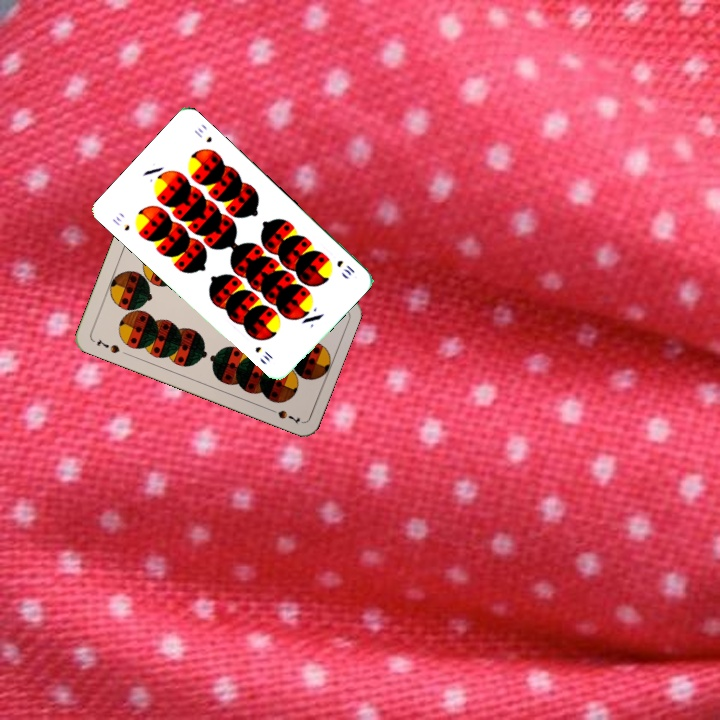S10: (333, 256, 357, 278), (108, 212, 132, 233)
S7: (93, 335, 122, 356)
